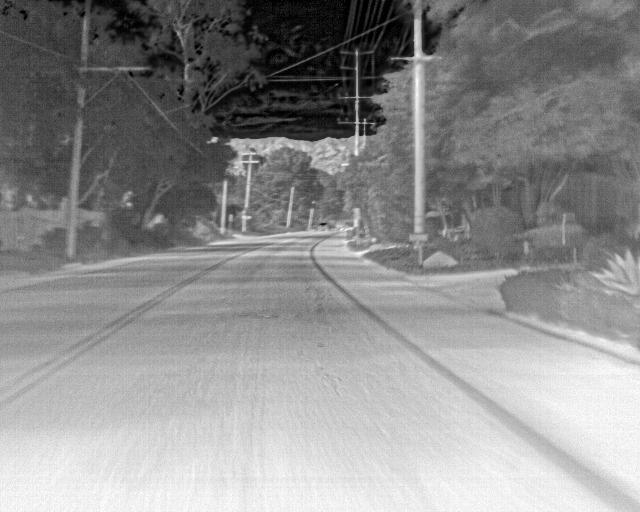car: (315, 221, 329, 234)
